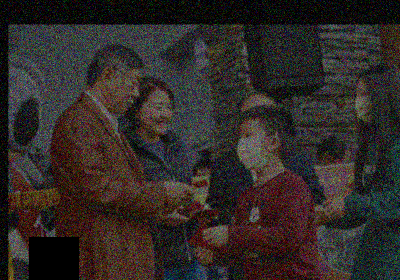with_mask: (236, 126, 271, 172), (354, 86, 375, 125)
without_mask: (109, 73, 142, 115), (141, 99, 174, 135)
